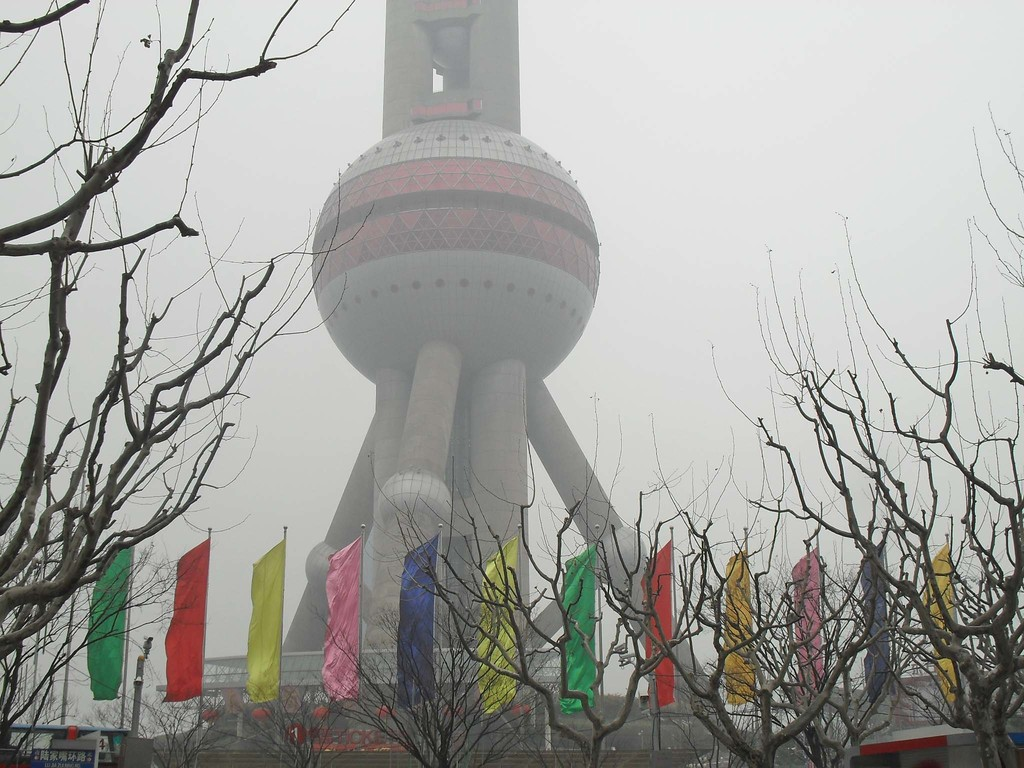Tree: (391, 102, 1023, 767), (0, 0, 355, 767), (291, 592, 538, 761)
